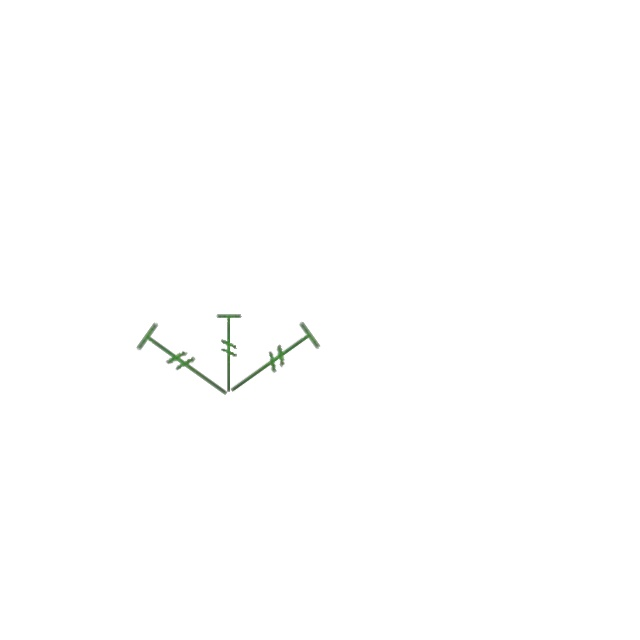fan: (132, 316, 242, 410), (219, 318, 326, 410), (214, 312, 246, 394)
